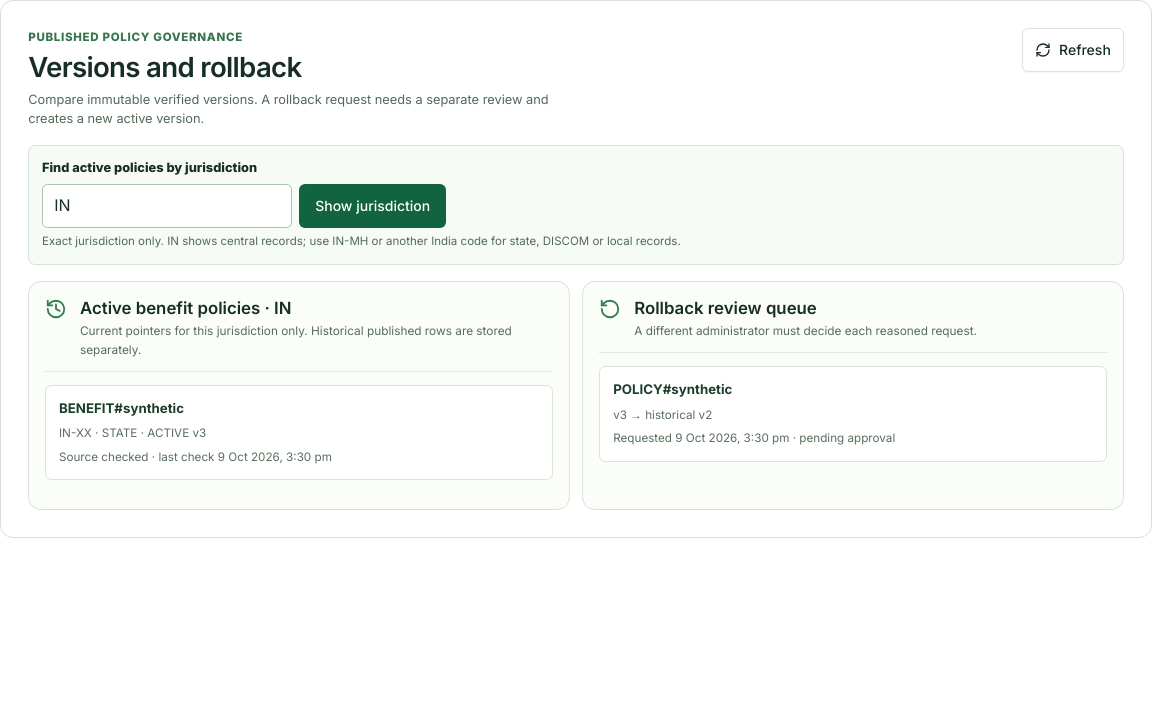
Test case: published policy version console › requires an exact jurisdiction selection and compares current pointer with historical rule terms
Click the button "BENEFIT#synthetic" at (121, 408), box [45,385,553,480]
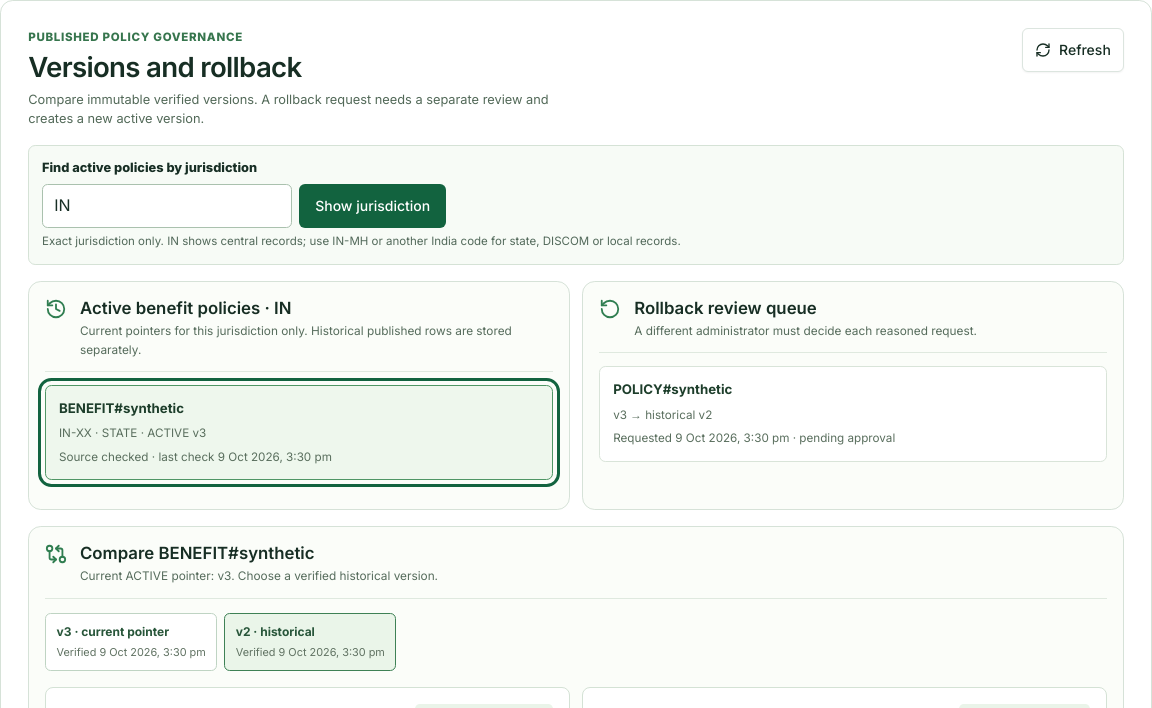
Replace the text in the field labelled "Find active policies by jurisdiction" with "IN-MH" at (167, 206), box [42,184,292,228]
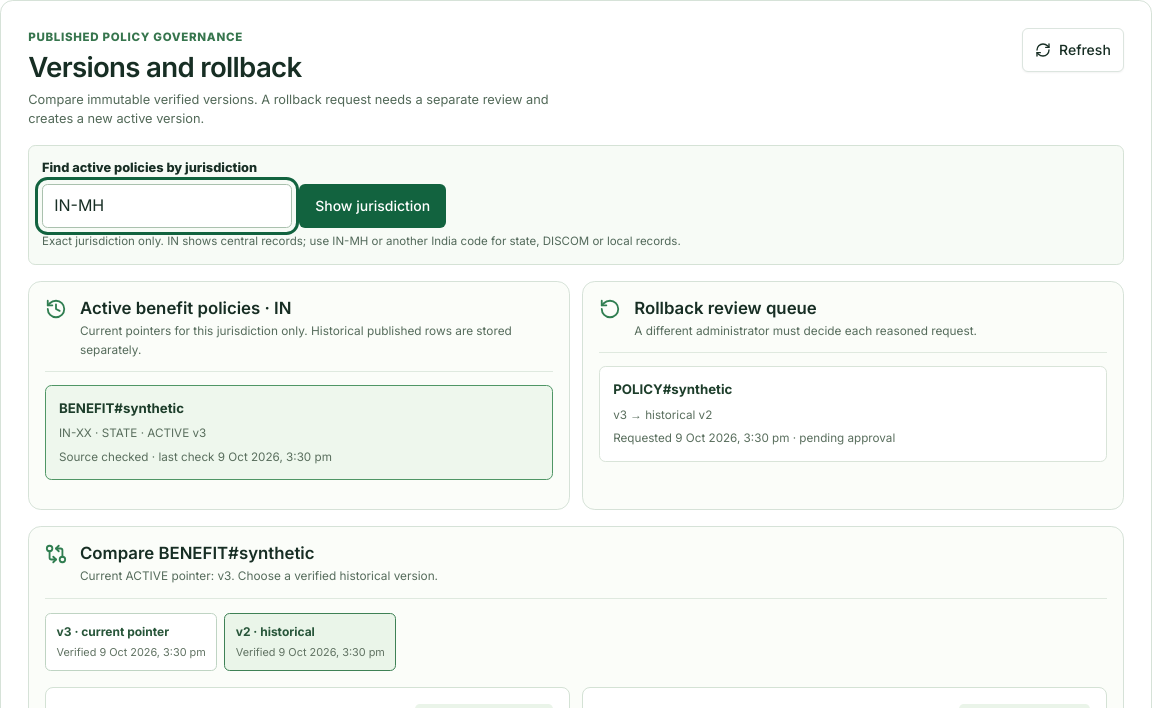
Click the button "Show jurisdiction" at (373, 206), box [299,184,446,228]
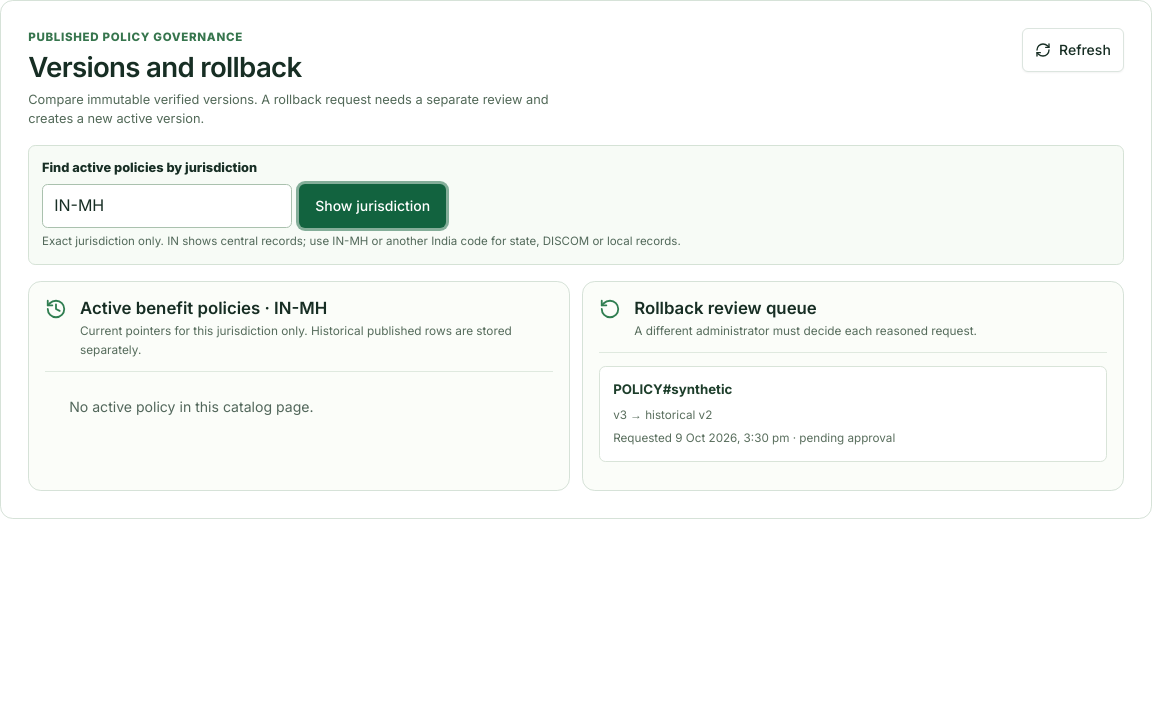
Check: the heading "Active benefit policies · IN-MH" is shown, box [80,298,327,318]
